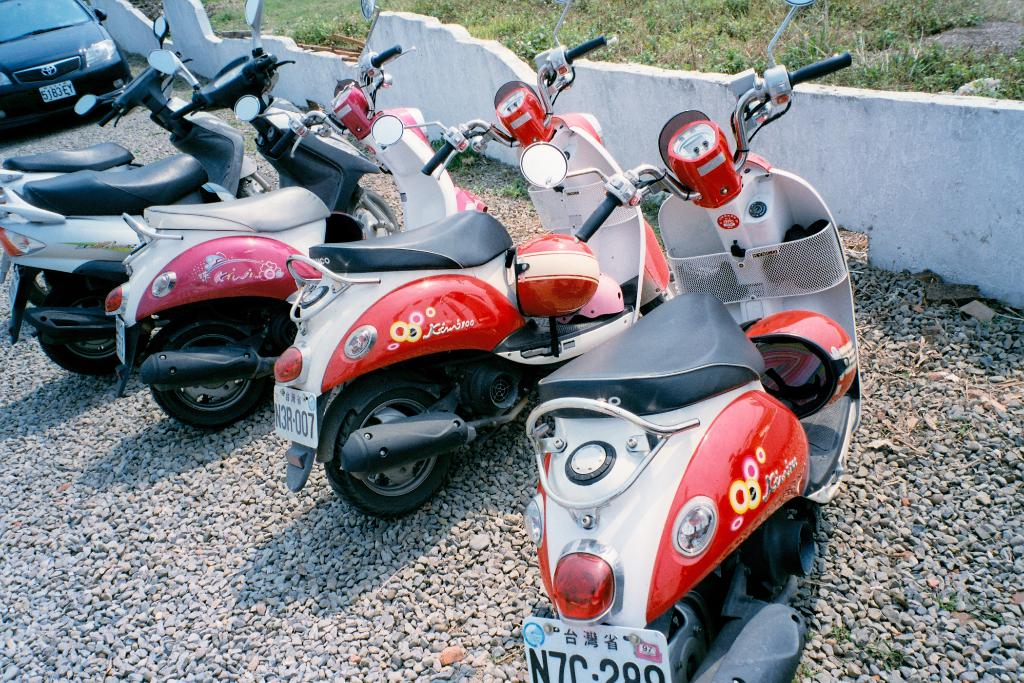motor: (532, 99, 889, 671), (326, 63, 665, 459), (156, 51, 469, 333)
